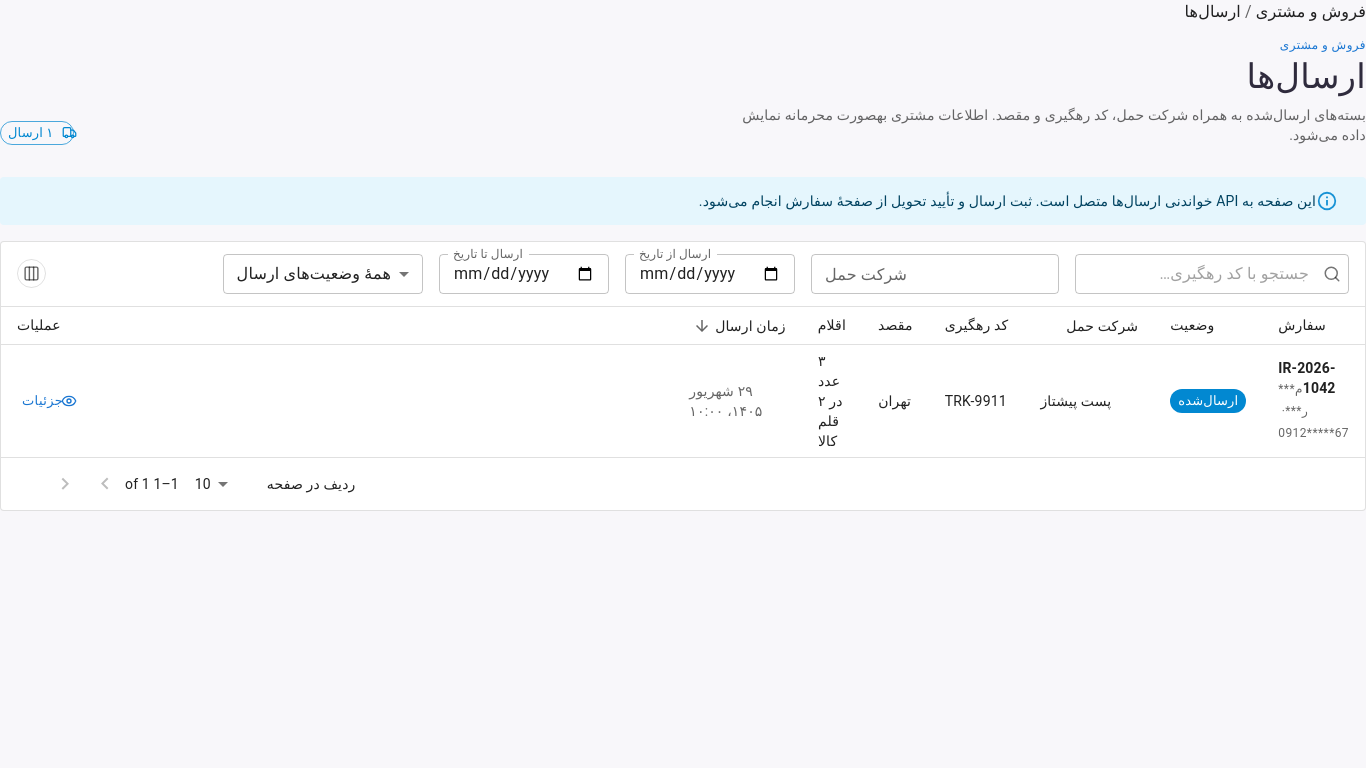
Test: ShipmentsView › loads the masked detail on demand and links back to the order
Expected: the link "IR-2026-1042" is shown, [1278,360,1336,396]
Click the button "جزئیات".
click(54, 401)  # box [17,386,90,417]
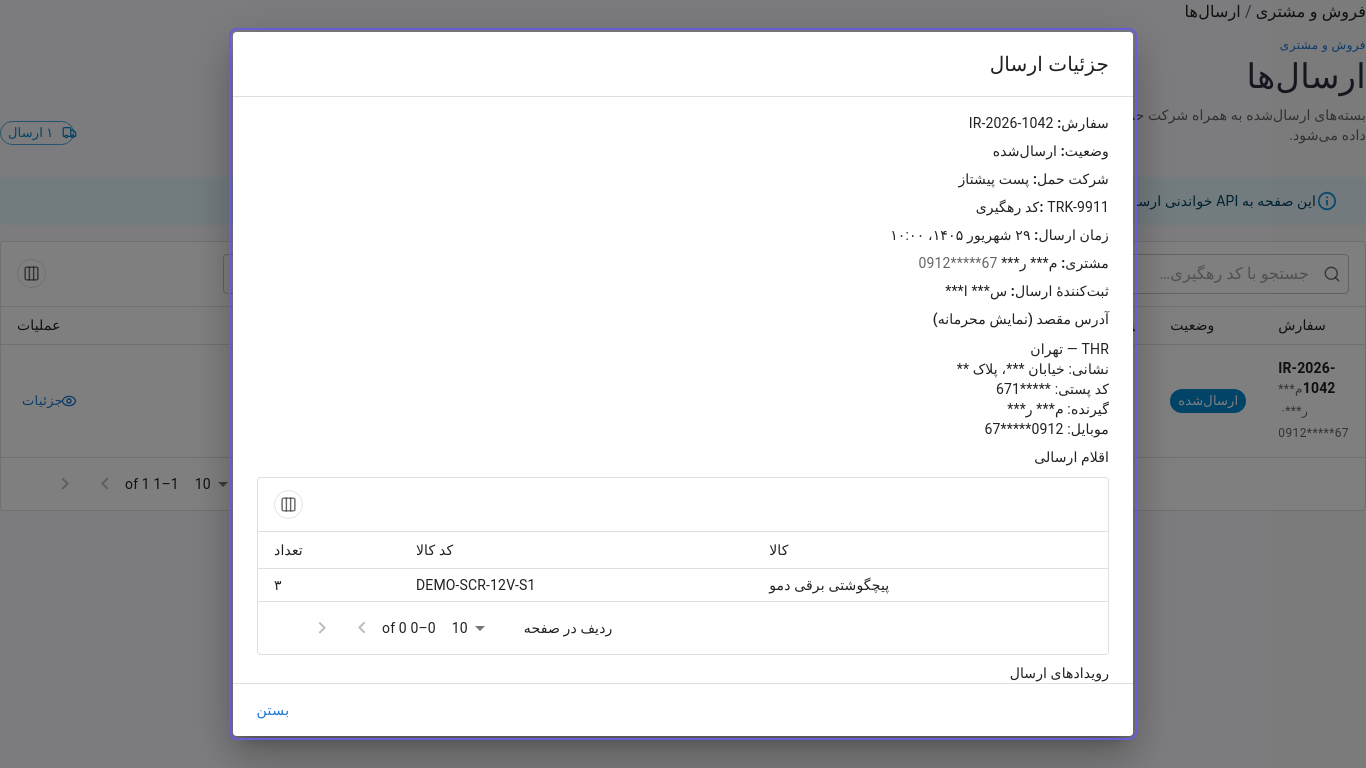
Expected: the text "نشانی: خیابان ***، پلاک **" is shown, [957,361,1109,377]
Expected: the text "کد پستی: *****671" is shown, [996,381,1109,397]
Expected: the text "س*** ا***" is shown, [945,283,1007,299]
